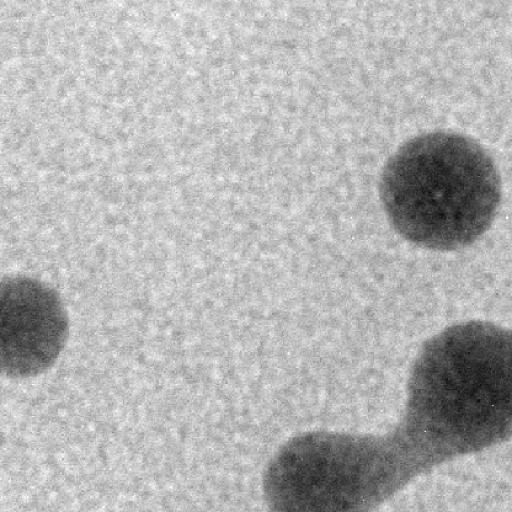Nanoparticles: (403, 321, 512, 460), (379, 129, 502, 251), (266, 426, 375, 512), (2, 271, 72, 393)
